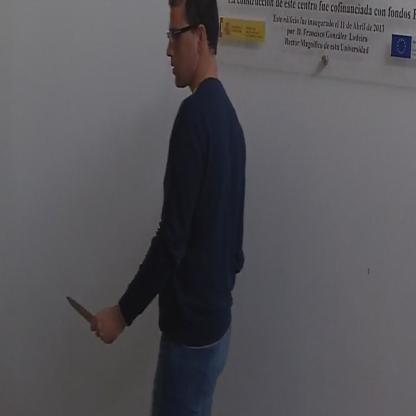knife: (61, 289, 105, 338)
